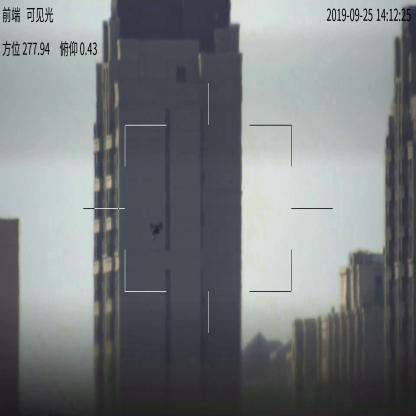uav: (148, 219, 166, 243)
